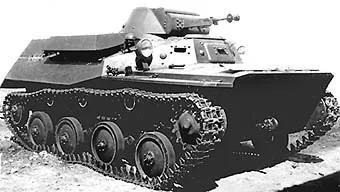MIL_IFV: (1, 6, 340, 190)
